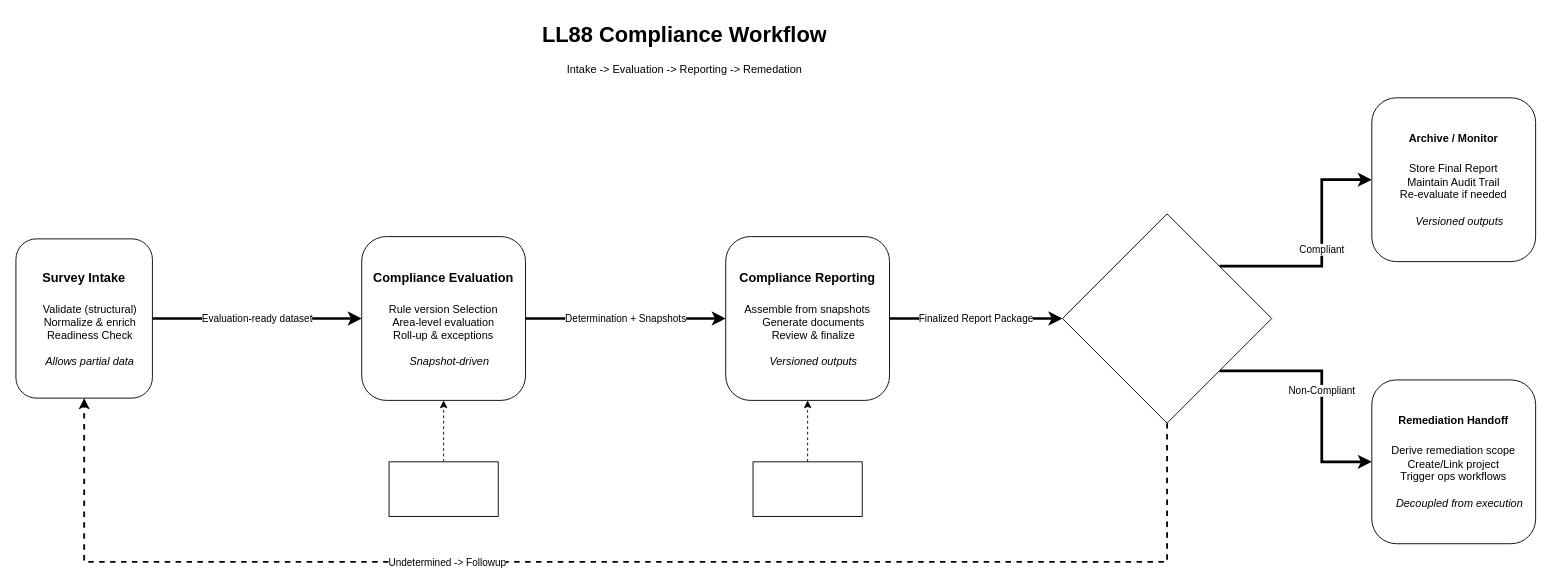
Image size: 1552x585. Some labels were removed from this diagram. Here are the shapes that lost their labels. From the top down, the centre of each, then its label:
At [1167,318]: "Compliance Determination Compliant / Non-compliant / Undetermined".
At [443,488]: "Compliance Snapshots".
At [807,488]: "Final Reports".
